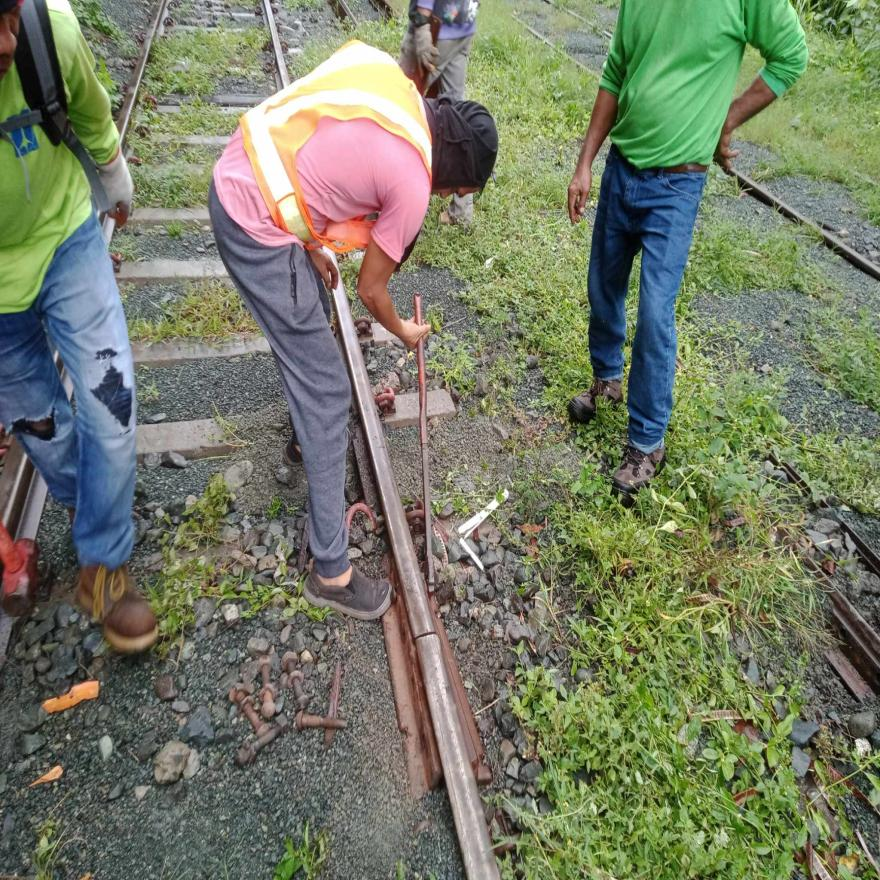railway-gap: (391, 590, 454, 674)
